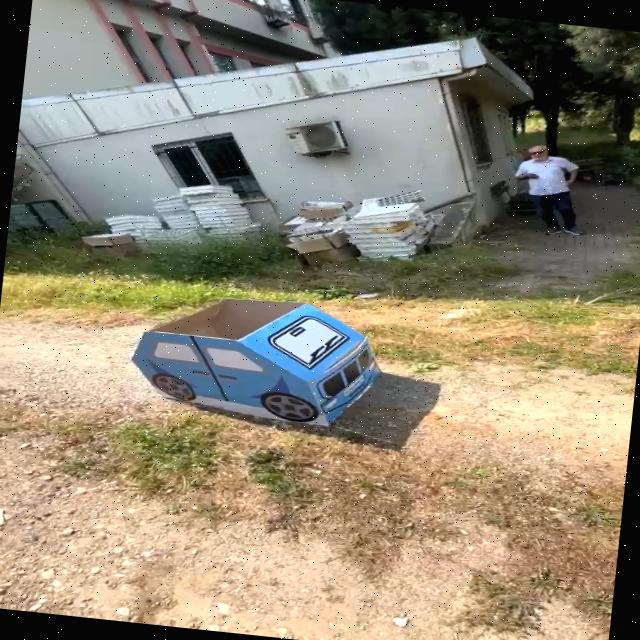blue_car: (119, 267, 405, 442)
